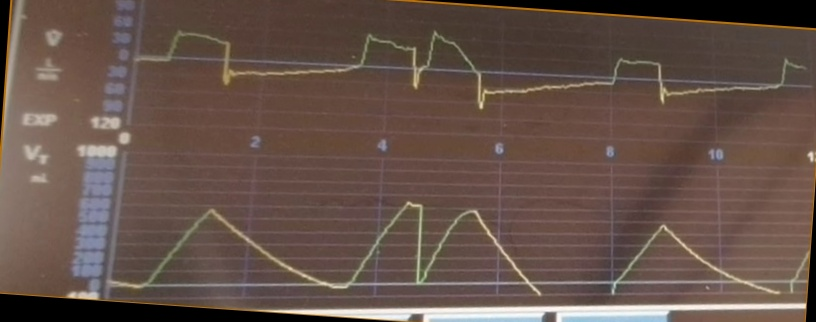Double_Triggering Flow: (147, 28, 807, 131)
Double_Triggering Volume: (123, 195, 805, 301)
